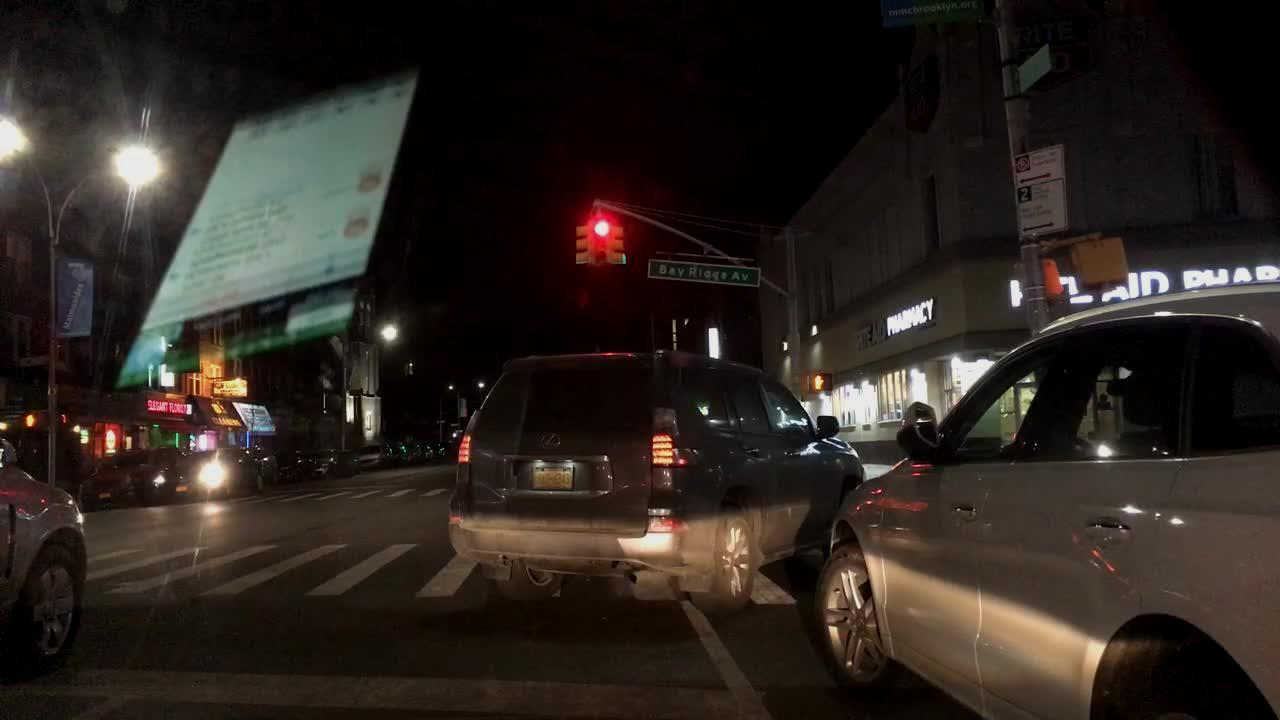lexus: (531, 426, 565, 457)
